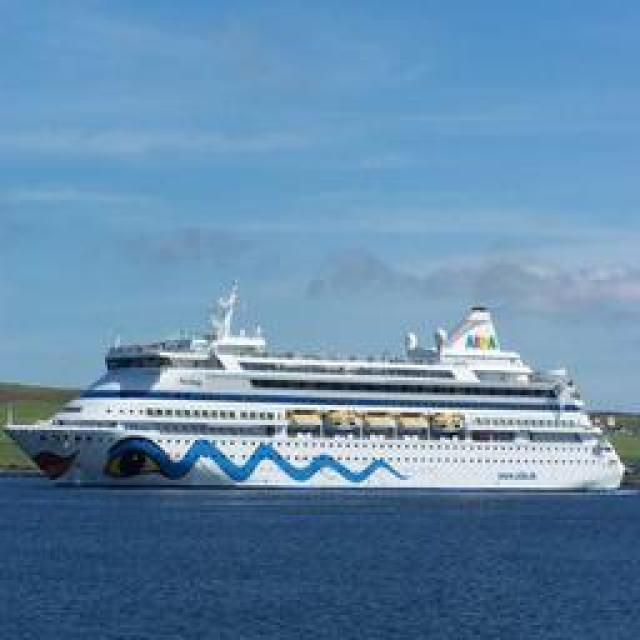ship2: (8, 290, 627, 495)
